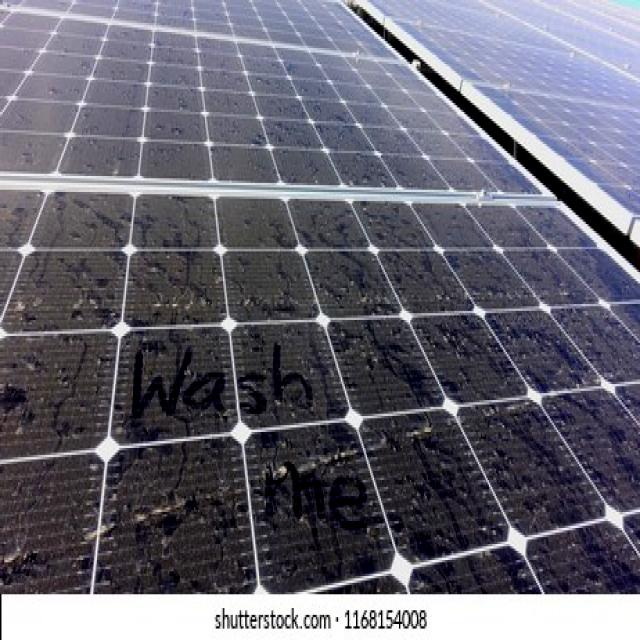dust: (108, 444, 252, 594), (53, 190, 216, 320), (227, 204, 394, 320), (76, 48, 232, 172), (262, 68, 432, 180), (126, 337, 328, 423), (522, 314, 632, 466), (262, 438, 368, 578), (407, 206, 534, 309), (382, 434, 473, 576), (337, 329, 495, 407), (0, 457, 91, 587), (0, 338, 105, 447), (486, 416, 559, 530), (558, 224, 596, 304)
